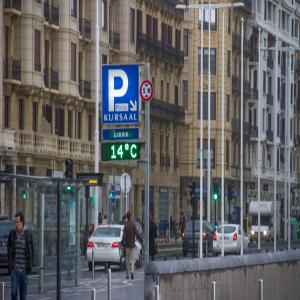Vehicle-registration-plate: (98, 244, 109, 249), (192, 239, 198, 244)
